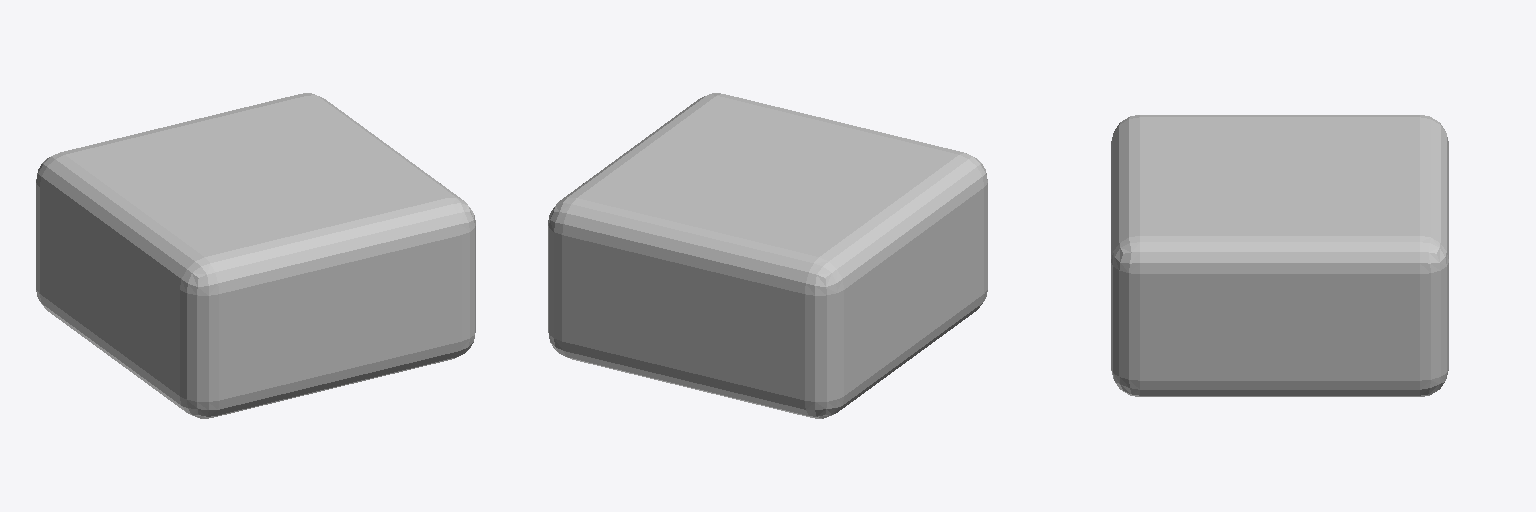
The model's file is appleTv.obj.
The picture shows the model from 3 angles: view 1: azimuth 30°, elevation 25°; view 2: azimuth 150°, elevation 25°; view 3: azimuth 270°, elevation 25°; orthographic projection.
Parts seen in each view (by area): view 1: default; view 2: default; view 3: default.
Boxes of the visible parts, <box> form: default: <box>36,93,475,418</box>; default: <box>548,93,987,418</box>; default: <box>1111,115,1448,396</box>.
Bounding box in the file's own units: 1.47 × 0.762 × 1.47.